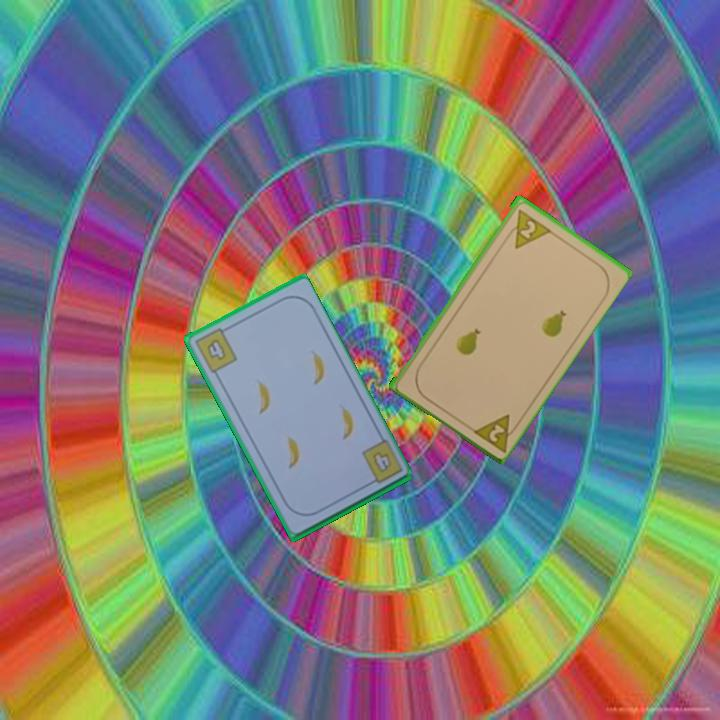2p: (468, 410, 523, 454), (502, 205, 553, 251)
4b: (191, 323, 240, 376), (369, 447, 394, 476)
